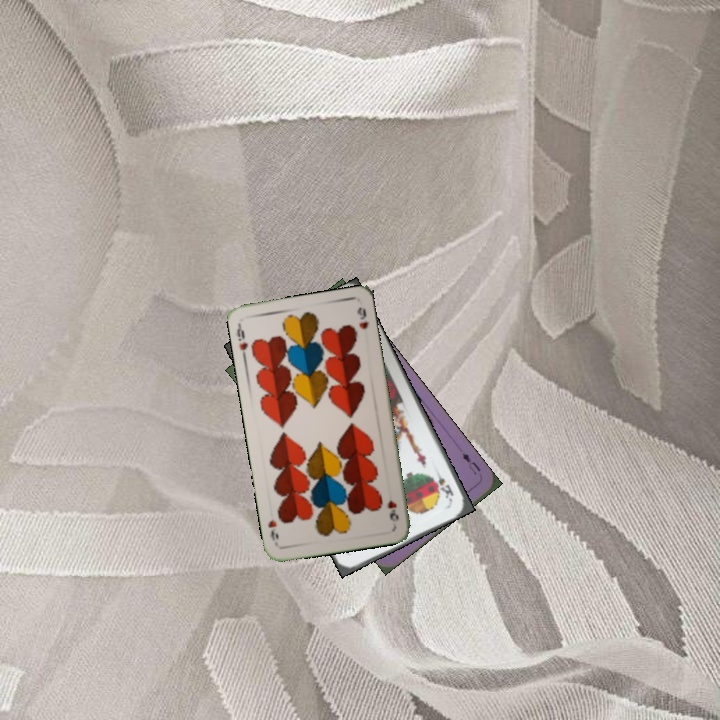EU: (458, 448, 483, 477)
H9: (232, 320, 250, 360), (383, 496, 401, 524)
SK: (431, 465, 456, 504)
